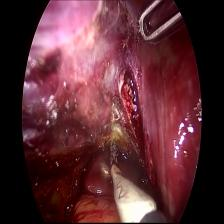Grasper: (135, 0, 184, 45)
Hook: (106, 144, 161, 224)
